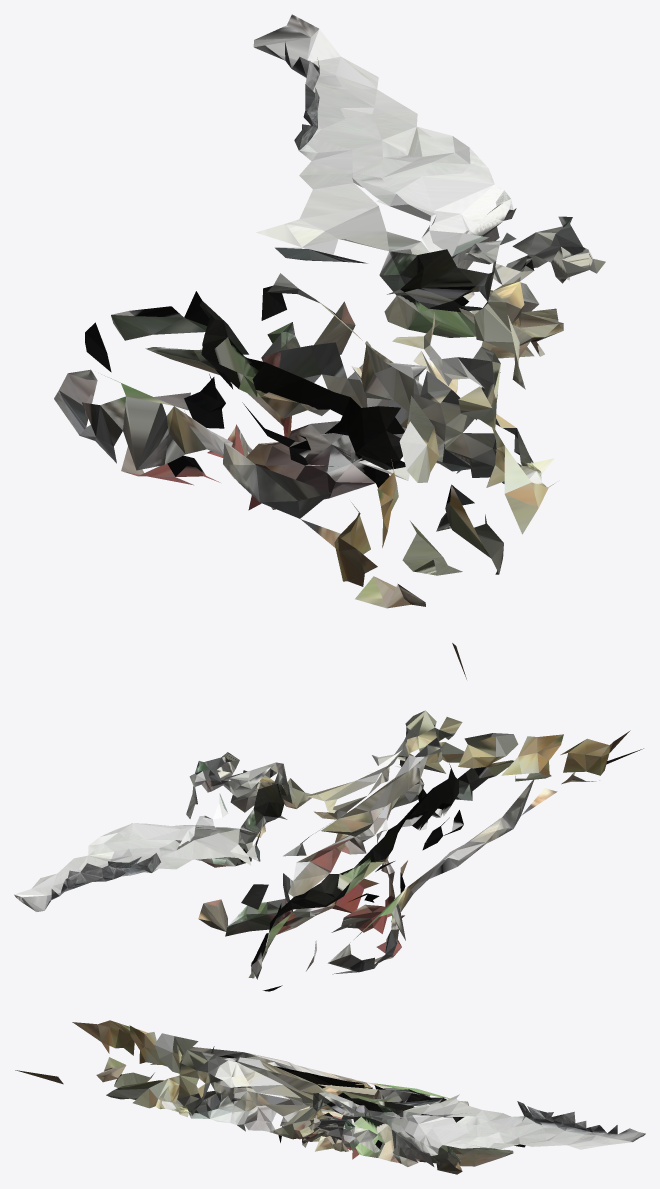
3 views of the same model, one above another, from view 1: azimuth 30°, elevation 25°; view 2: azimuth 150°, elevation 25°; view 3: azimuth 270°, elevation 25° (orthographic). The views are drawn at different scales.
Parts seen in each view (by area): view 1: Left_Landscape_LO5; view 2: Left_Landscape_LO5; view 3: Left_Landscape_LO5.
Part boxes in pixels (x1,y1,x2,y2): Left_Landscape_LO5: [54, 14, 605, 679]; Left_Landscape_LO5: [14, 710, 643, 991]; Left_Landscape_LO5: [15, 1020, 645, 1174].
Bounding box in the file's own units: 14323 × 6655 × 30680.
Materials: 1 (1 with a texture image).
